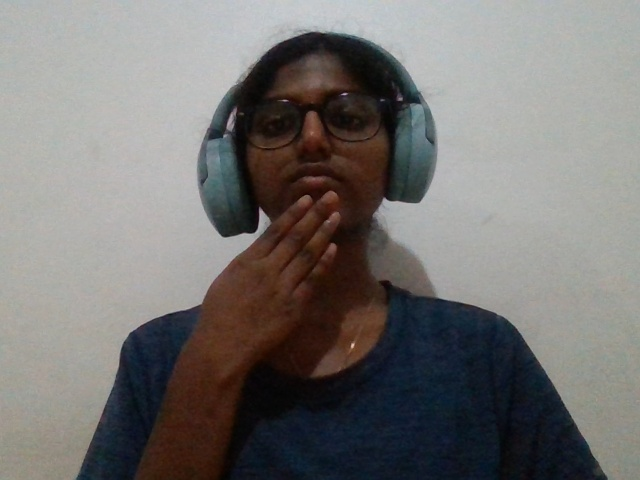Thanks: (143, 171, 364, 442)
